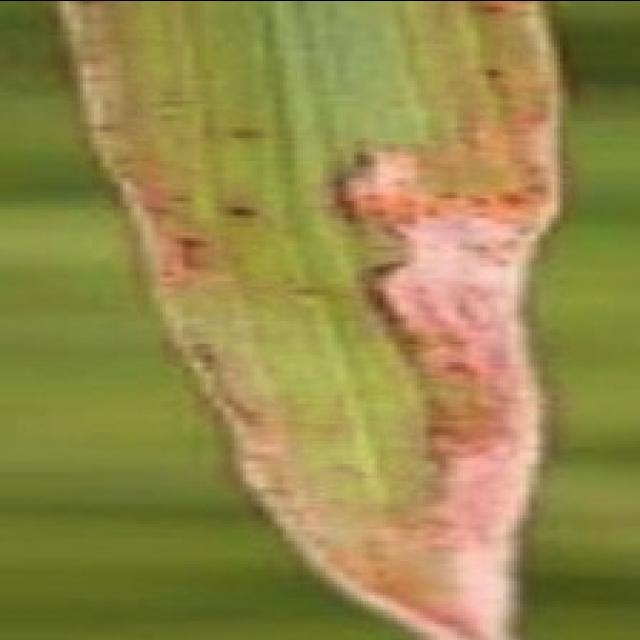Unhealthy: (340, 146, 551, 640)
